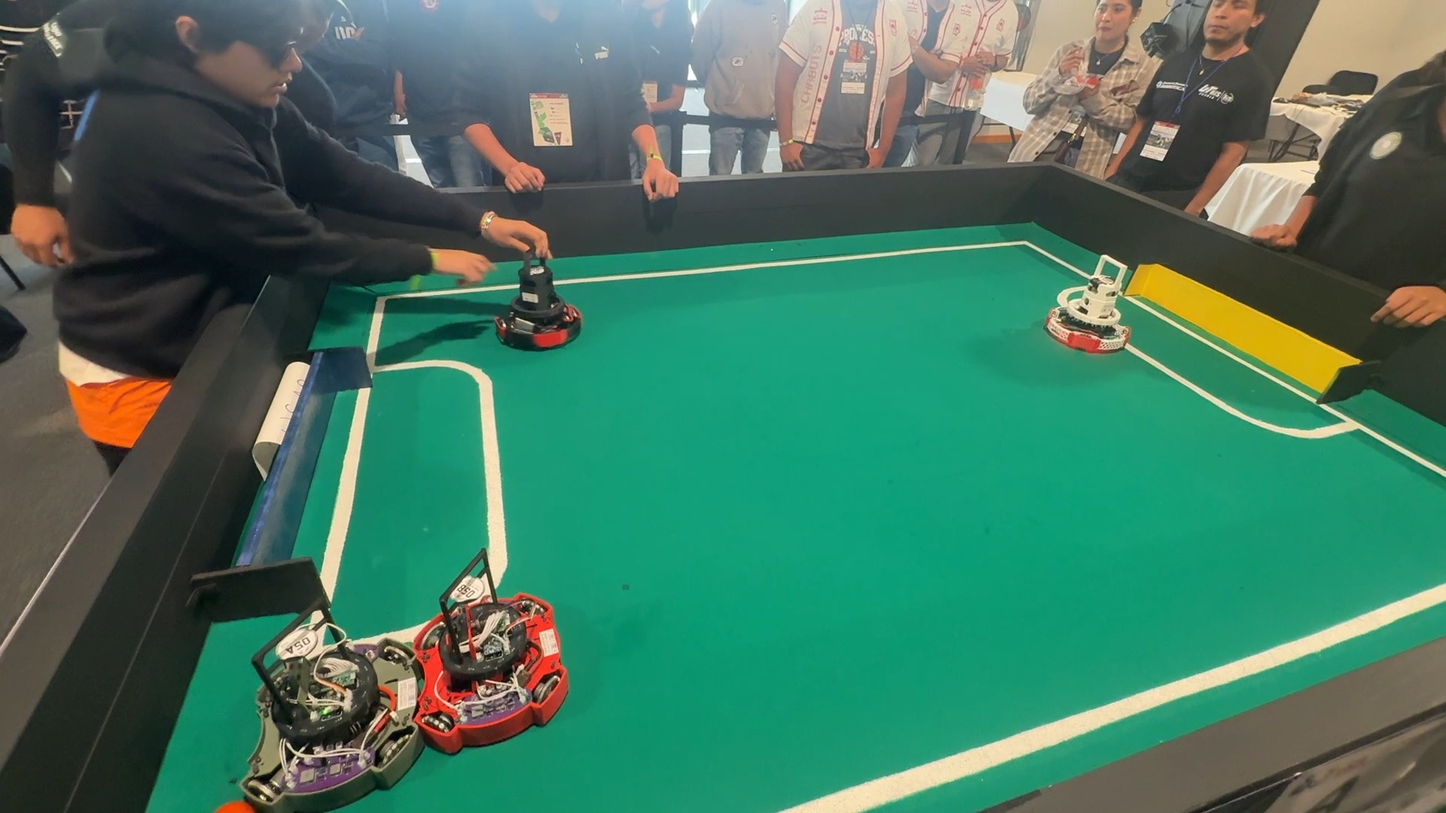Robot: (232, 587, 426, 813), (377, 563, 575, 763), (480, 234, 589, 360), (1038, 247, 1157, 360)
